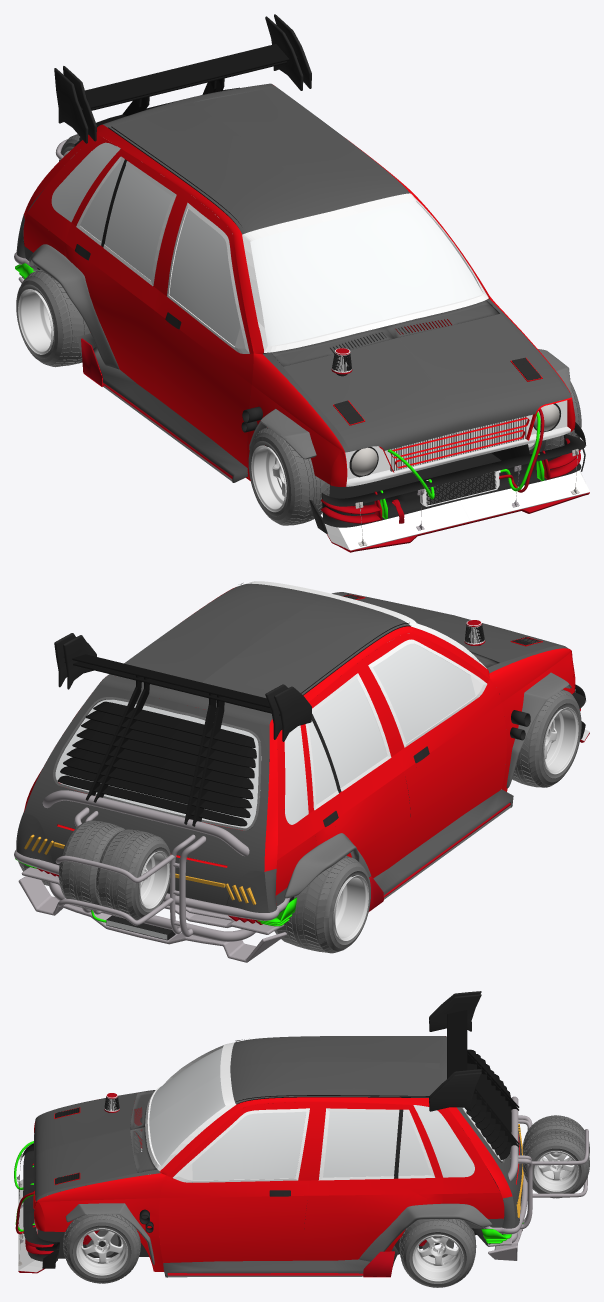
File: maruti_suzuki_800_custom_edition.glb
The picture shows the model from 3 angles, top to bottom: view 1: azimuth 30°, elevation 25°; view 2: azimuth 150°, elevation 25°; view 3: azimuth 270°, elevation 25°; orthographic projection. The views are drawn at different scales.
Parts seen in each view (by area): view 1: Surface-Trim4, Mirror14, Surface-Fill4, Surface-Fill40, Surface-Trim22[5], Plane.004, Surface-Trim22[8], Plane.010, Surface-Fill10.001, Surface-Fill4.001, Tire LB002.002, Plane.012 (+34 smaller); view 2: Mirror14, RearWindow_Rubber_0, Surface-Fill40, Surface-Trim21, Surface-Trim22[5], Tire LB002.001, Surface-Trim22[8], Tire LB002.003, Surface-Trim4, Plane.008, Plane.012, Surface-Fill28.001 (+36 smaller); view 3: Mirror14, Surface-Fill40, Surface-Trim22[2], Surface-Trim22[4], Surface-Trim4, Surface-Fill4, Tire LB002.001, Tire LB002.002, Plane.012, Tire LB002.003, Surface-Fill28.001, RearWindow_Rubber_0 (+32 smaller).
Boxes of the visible parts, left/top/right/bottom form: Surface-Trim4: left=263, top=299, right=571, bottom=452; Mirror14: left=109, top=87, right=410, bottom=234; Surface-Fill4: left=250, top=201, right=482, bottom=345; Surface-Fill40: left=71, top=92, right=249, bottom=352; Surface-Trim22[5]: left=152, top=310, right=251, bottom=467; Plane.004: left=325, top=470, right=589, bottom=550; Surface-Trim22[8]: left=64, top=243, right=155, bottom=396; Plane.010: left=81, top=44, right=297, bottom=110; Surface-Fill10.001: left=321, top=434, right=585, bottom=527; Surface-Fill4.001: left=242, top=193, right=488, bottom=352; Tire LB002.002: left=248, top=382, right=581, bottom=525; Plane.012: left=54, top=14, right=311, bottom=143; Mirror14: left=108, top=583, right=409, bottom=714; RearWindow_Rubber_0: left=57, top=701, right=256, bottom=826; Surface-Fill40: left=55, top=641, right=475, bottom=828; Surface-Trim21: left=24, top=675, right=272, bottom=905; Surface-Trim22[5]: left=404, top=703, right=506, bottom=854; Tire LB002.001: left=59, top=820, right=170, bottom=919; Surface-Trim22[8]: left=315, top=771, right=410, bottom=878; Tire LB002.003: left=16, top=813, right=370, bottom=953; Surface-Trim4: left=332, top=592, right=571, bottom=673; Plane.008: left=85, top=675, right=224, bottom=826; Plane.012: left=54, top=633, right=311, bottom=741; Surface-Fill28.001: left=373, top=789, right=513, bottom=895; Mirror14: left=230, top=1036, right=439, bottom=1104; Surface-Fill40: left=192, top=1107, right=502, bottom=1180; Surface-Trim22[2]: left=159, top=1176, right=309, bottom=1262; Surface-Trim22[4]: left=304, top=1177, right=443, bottom=1260; Surface-Trim4: left=34, top=1092, right=160, bottom=1201; Surface-Fill4: left=149, top=1047, right=225, bottom=1165; Tire LB002.001: left=522, top=1115, right=589, bottom=1198; Tire LB002.002: left=63, top=1132, right=140, bottom=1283; Plane.012: left=429, top=991, right=481, bottom=1111; Tire LB002.003: left=399, top=1219, right=476, bottom=1287; Surface-Fill28.001: left=163, top=1259, right=370, bottom=1277; RearWindow_Rubber_0: left=465, top=1049, right=511, bottom=1159.
Size of the model in its own units: 1.42 by 1.15 by 2.95.
